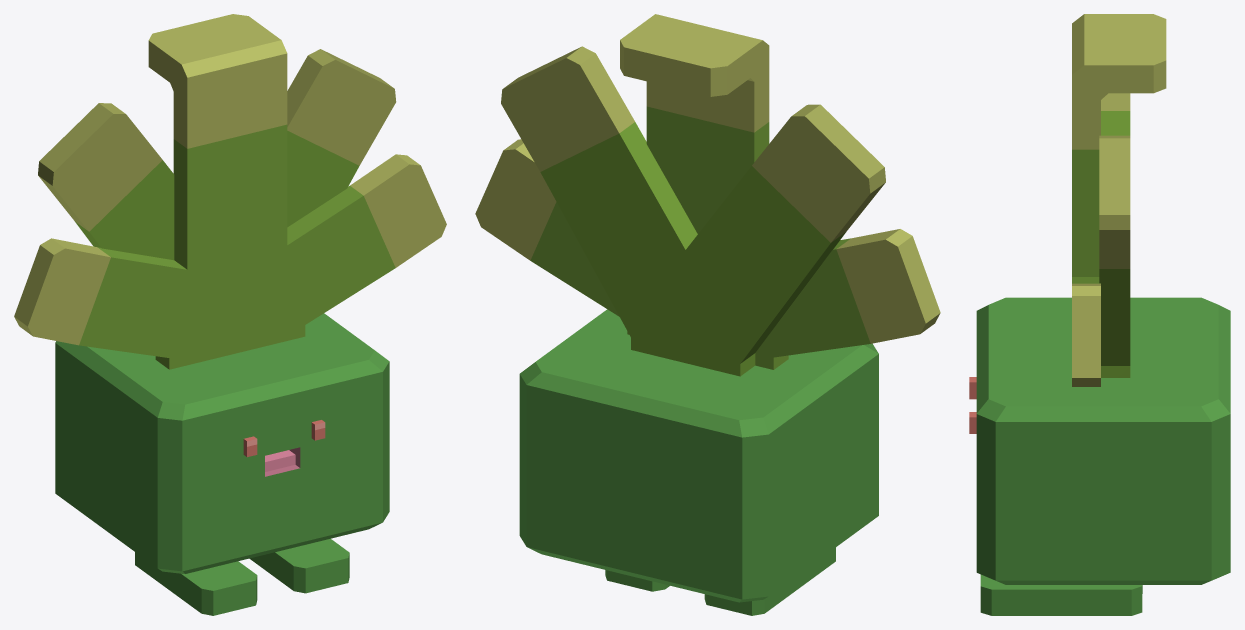
File: model_shiny.obj
3 views of the same model, side by side, from view 1: azimuth 30°, elevation 25°; view 2: azimuth 150°, elevation 25°; view 3: azimuth 270°, elevation 25° (orthographic). The views are drawn at different scales.
Visible parts, largest first — view 1: 0043_oddish_shiny; view 2: 0043_oddish_shiny; view 3: 0043_oddish_shiny.
Part boxes in pixels (x1=…): 0043_oddish_shiny: x1=14, y1=14, x2=446, y2=615; 0043_oddish_shiny: x1=475, y1=14, x2=940, y2=615; 0043_oddish_shiny: x1=969, y1=14, x2=1230, y2=615.
Bounding box in the file's own units: 1.88 × 2.19 × 0.9638.
1 material, 1 textured.
